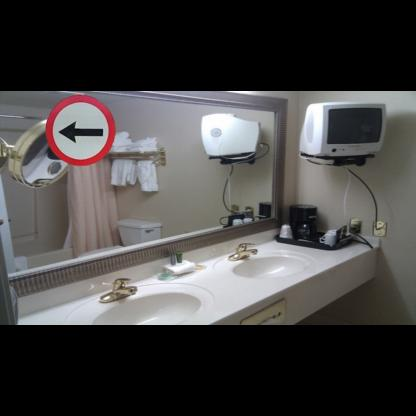R-24a: (46, 94, 116, 166)
